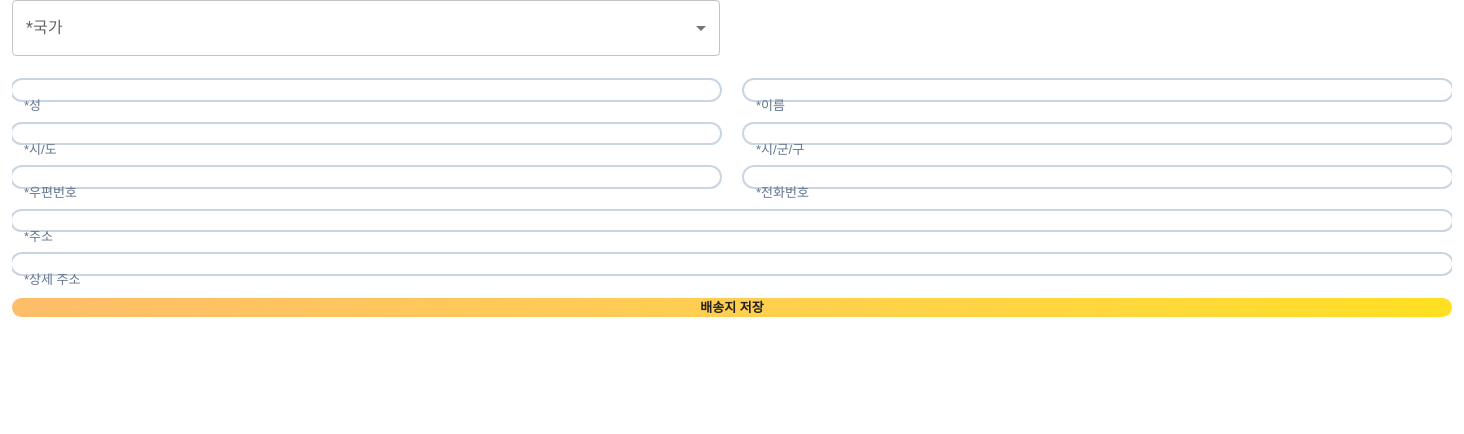
Test: AddShipping › does not save when a required field is missing
Type "길동" into the field named "*성".
click(366, 90); type("길동")  # box [12, 80, 720, 100]
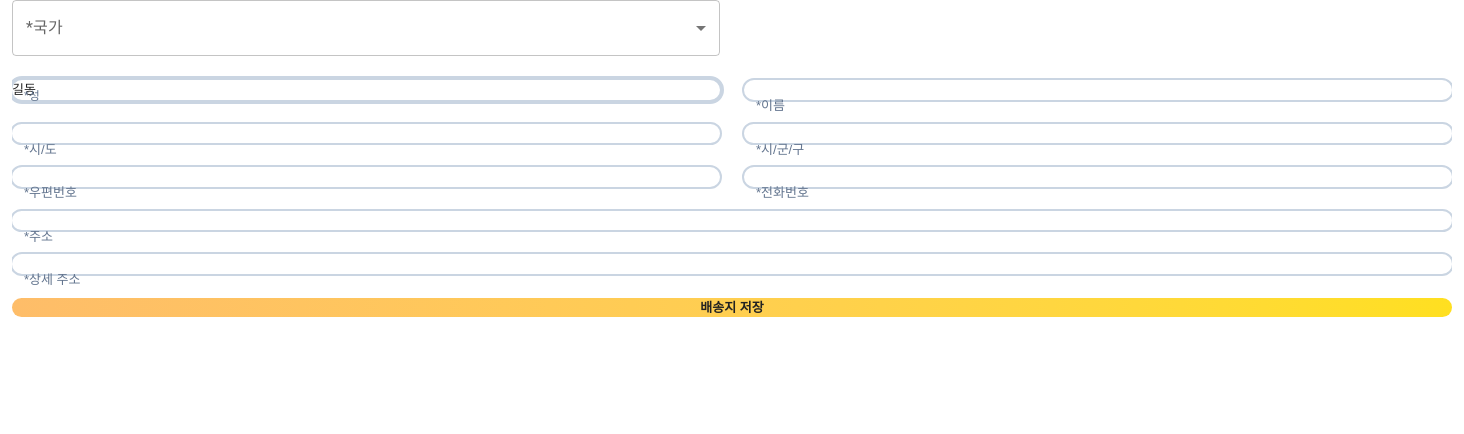
Click the button "배송지 저장".
click(732, 307)  # box [12, 298, 1452, 317]
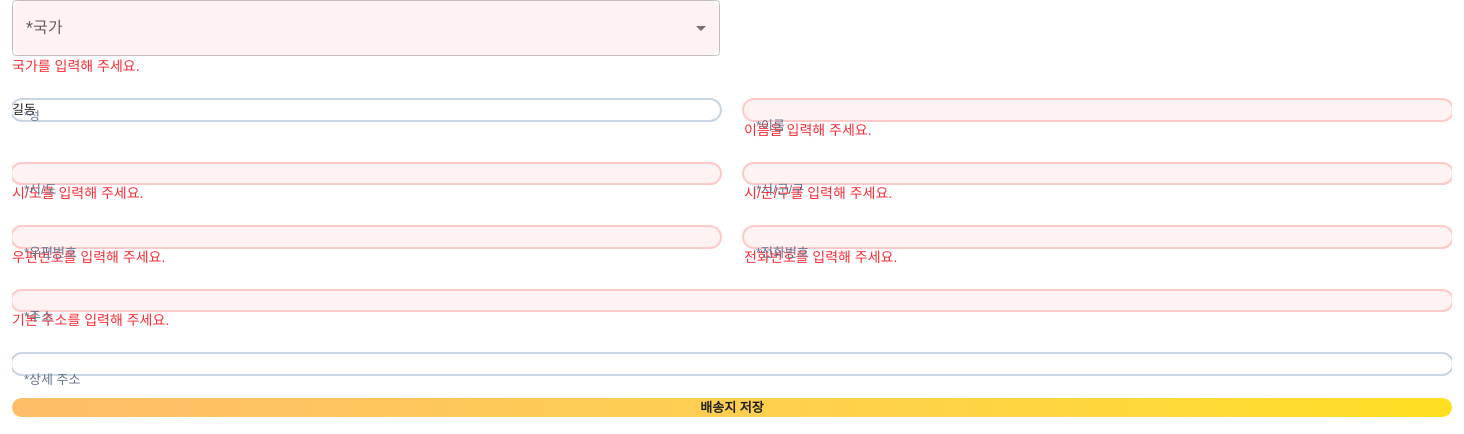
Expected: the text "국가를 입력해 주세요." is shown, [12, 58, 140, 74]
